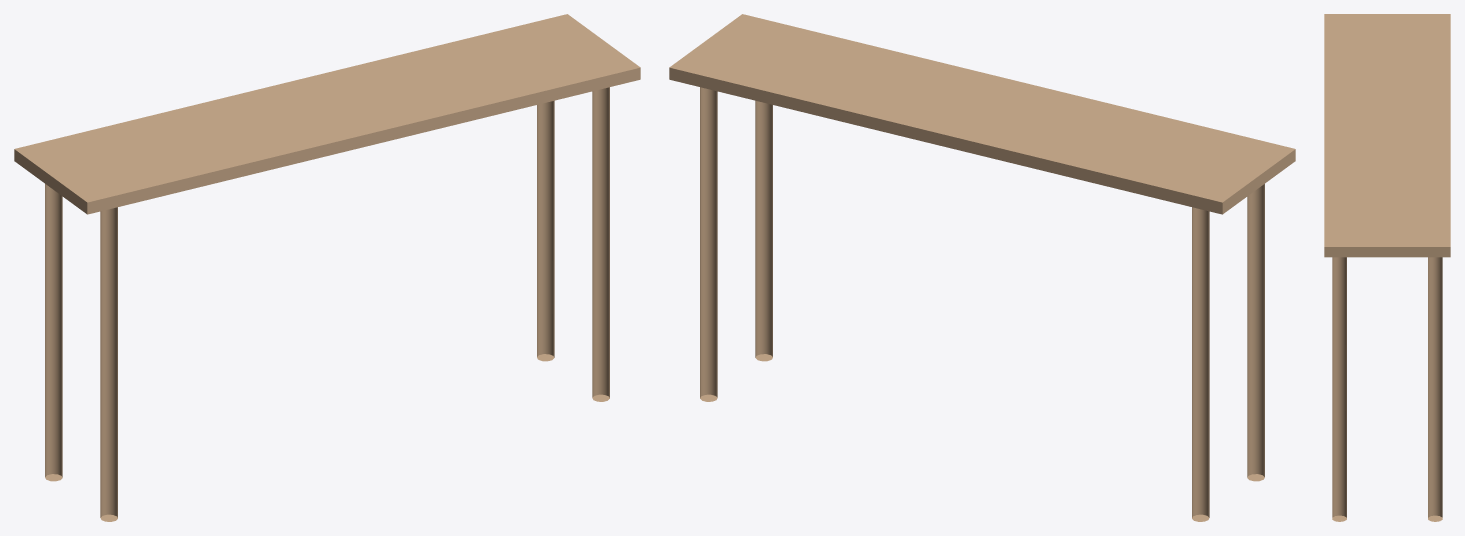
Rendered from console_table_05.glb.
The picture shows the model from 3 angles, left to right: view 1: azimuth 30°, elevation 25°; view 2: azimuth 150°, elevation 25°; view 3: azimuth 270°, elevation 25°; orthographic projection. The views are drawn at different scales.
Size of the model in its own units: 1.44 by 0.82 by 0.33.
